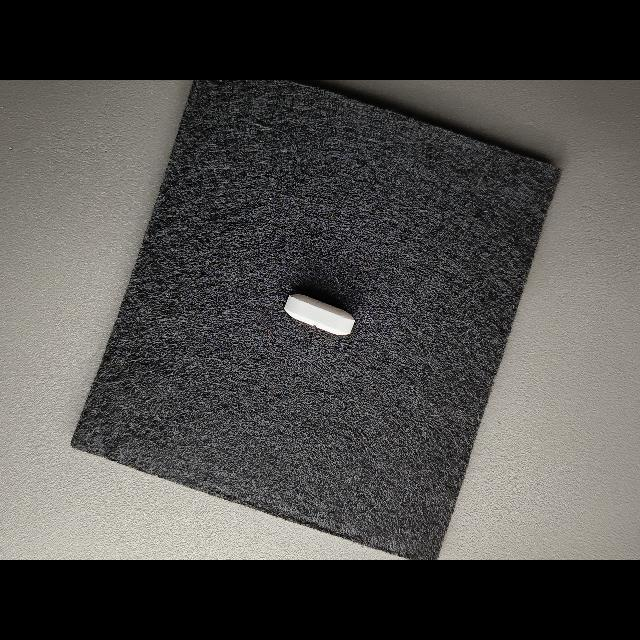Intact Pill: (284, 294, 355, 335)
